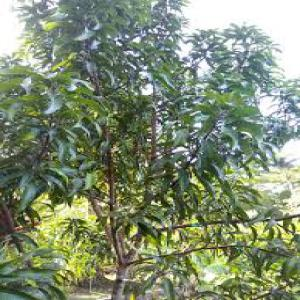Tree: (6, 0, 294, 297)
